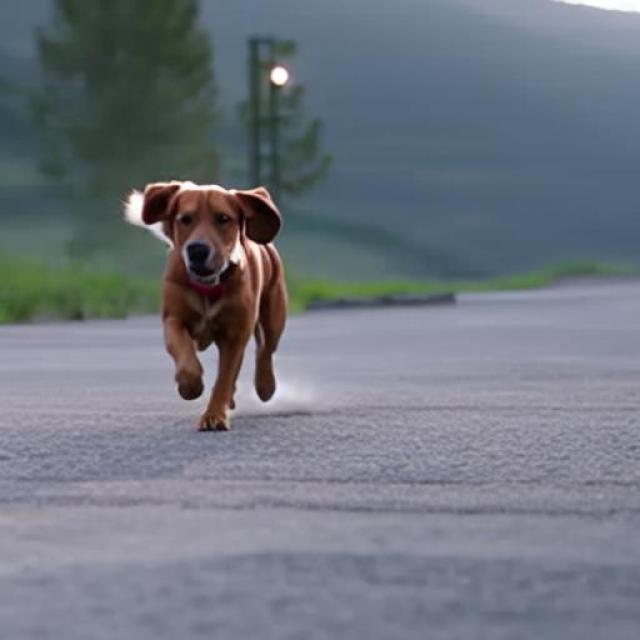Dog: (126, 180, 286, 432)
